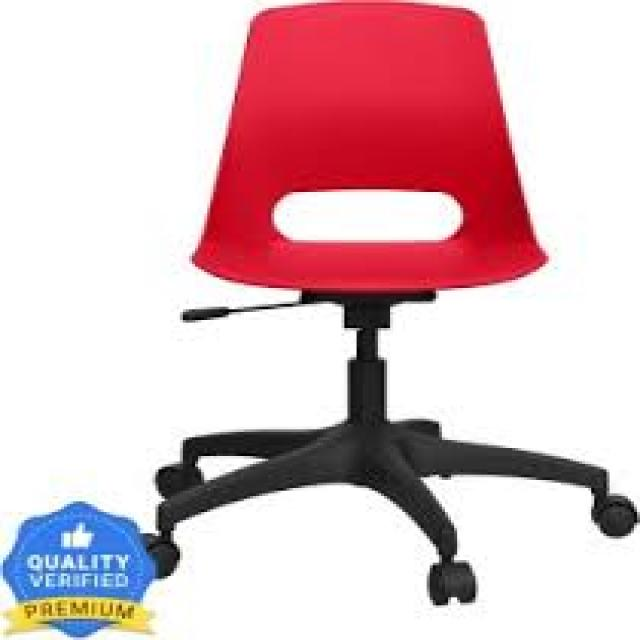chair: (44, 6, 640, 640)
